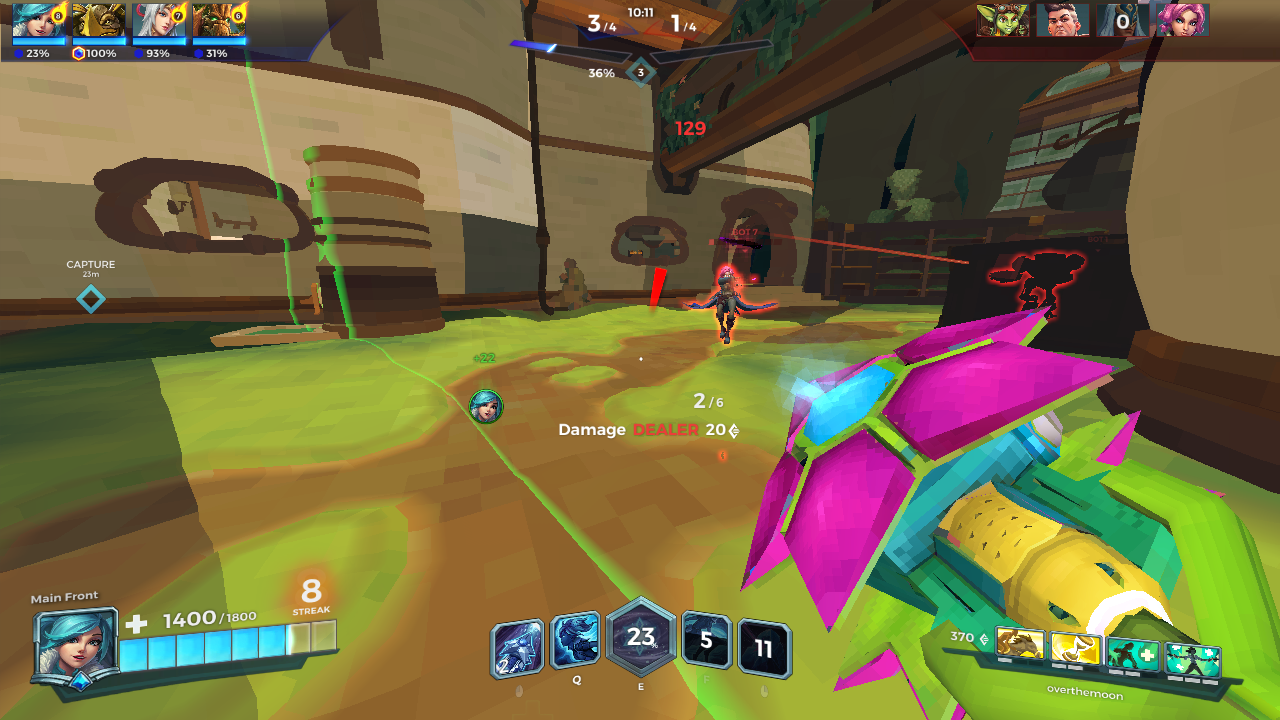model: (704, 258, 760, 349), (988, 247, 1061, 314)
